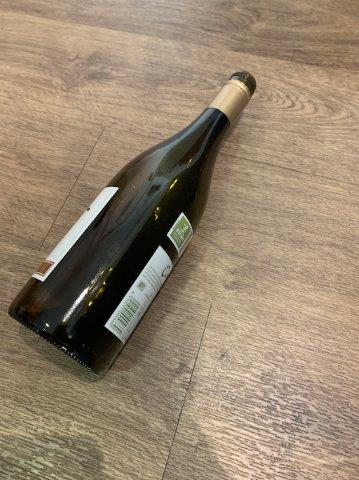botolkaca: (7, 69, 258, 376)
